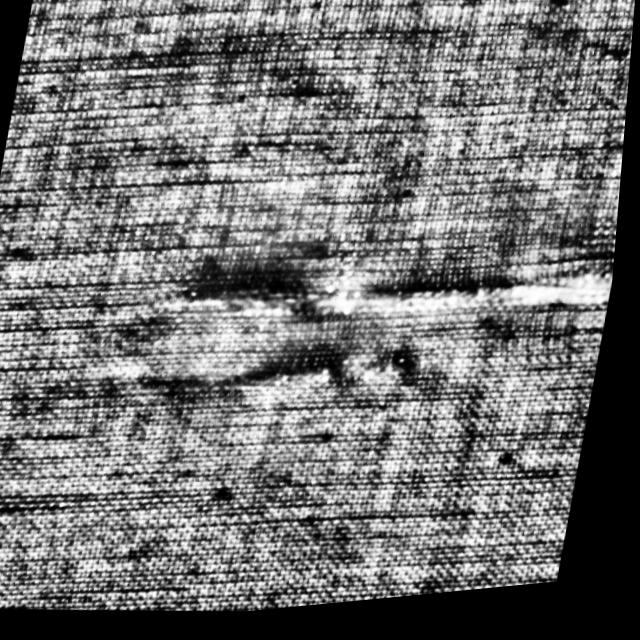Stitch: (160, 202, 624, 377), (140, 318, 436, 443)
